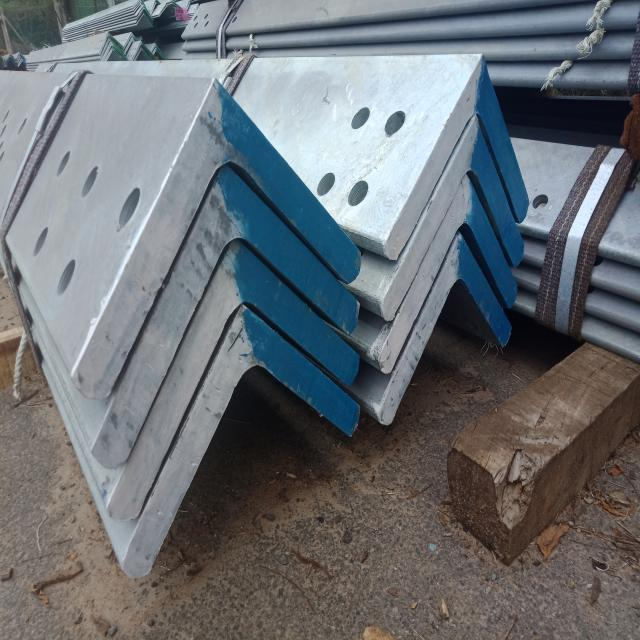metal-angles: (70, 77, 361, 399), (92, 163, 359, 466), (108, 237, 359, 520), (121, 303, 360, 578), (379, 114, 524, 321), (383, 55, 529, 260), (377, 172, 518, 374), (378, 231, 511, 425)
